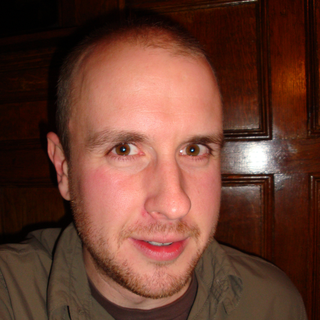eye: (101, 138, 147, 161), (174, 138, 216, 163)
